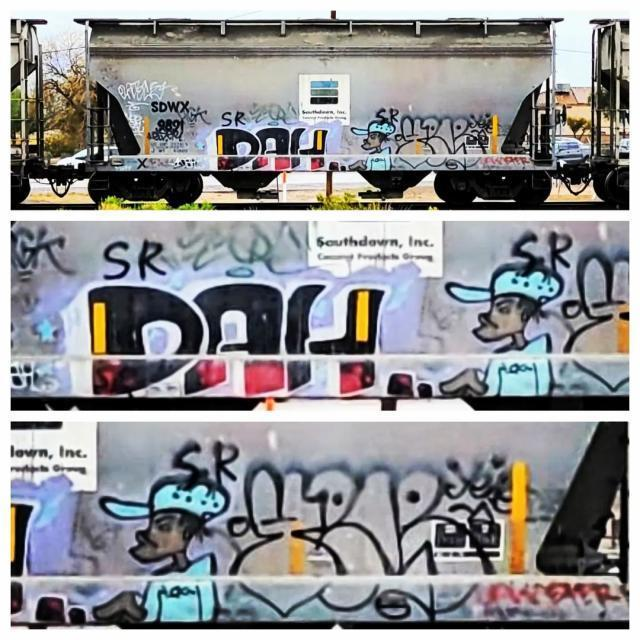-: (242, 461, 528, 619), (78, 274, 387, 396), (98, 436, 246, 624), (451, 241, 572, 413), (124, 71, 200, 171), (210, 126, 332, 172), (398, 118, 484, 173), (346, 106, 398, 177)
